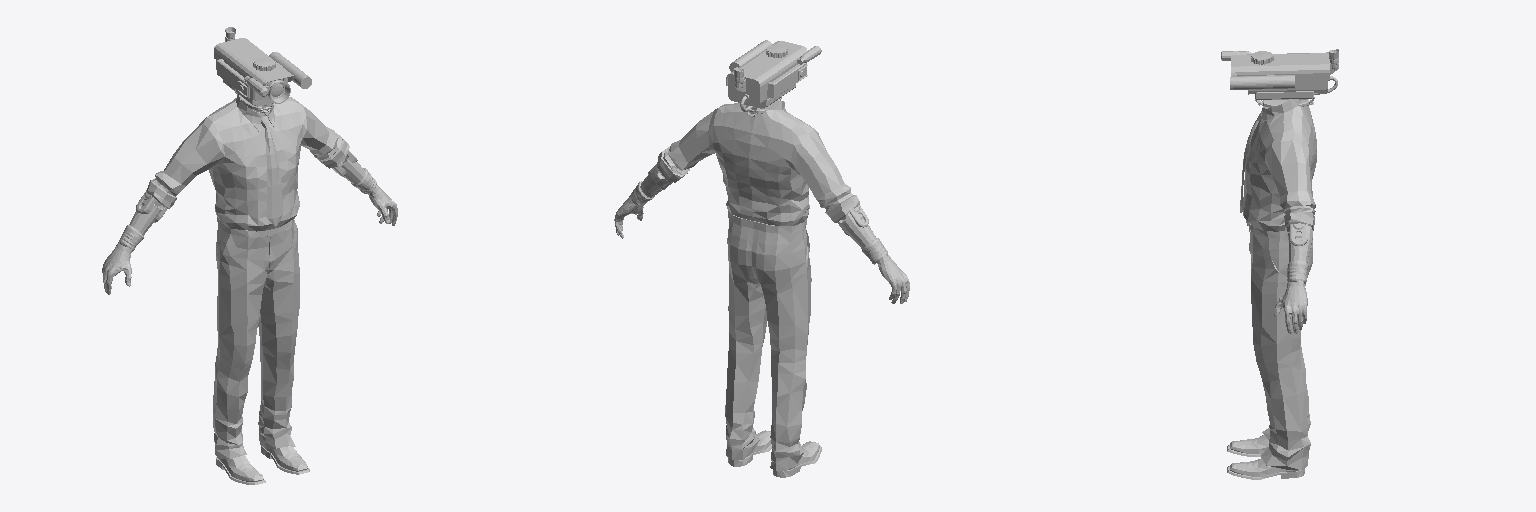
The picture shows the model from 3 angles: view 1: azimuth 30°, elevation 25°; view 2: azimuth 150°, elevation 25°; view 3: azimuth 270°, elevation 25°; orthographic projection.
Parts seen in each view (by area): view 1: Object_127, Object_129, SurveillanceCamera.002_SurveillanceCamera_Mat.003_0, Object_128, Object_131, SM_Camcorder_01a.smd.004_MI_Camcorder_01a_0; view 2: Object_127, SurveillanceCamera.002_SurveillanceCamera_Mat.003_0, Object_129, Object_128, SM_Camcorder_01a.smd.004_MI_Camcorder_01a_0; view 3: Object_127, SurveillanceCamera.002_SurveillanceCamera_Mat.003_0, Object_129, Object_128, Cylinder_MI_Camcorder_01a_0, SM_Camcorder_01a.smd.002_MI_Camcorder_01a_0.
Boxes of the visible parts, <box> form: Object_127: <box>147,94,349,484</box>; Object_129: <box>120,151,376,251</box>; SurveillanceCamera.002_SurveillanceCamera_Mat.003_0: <box>214,38,294,102</box>; Object_128: <box>102,185,397,294</box>; Object_131: <box>261,116,282,226</box>; SM_Camcorder_01a.smd.004_MI_Camcorder_01a_0: <box>217,59,269,99</box>; Object_127: <box>657,100,859,477</box>; SurveillanceCamera.002_SurveillanceCamera_Mat.003_0: <box>726,41,806,111</box>; Object_129: <box>630,162,887,264</box>; Object_128: <box>614,195,909,303</box>; SM_Camcorder_01a.smd.004_MI_Camcorder_01a_0: <box>767,63,807,97</box>; Object_127: <box>1227,99,1316,479</box>; SurveillanceCamera.002_SurveillanceCamera_Mat.003_0: <box>1231,52,1337,99</box>; Object_129: <box>1287,223,1312,283</box>; Object_128: <box>1274,280,1307,333</box>; Cylinder_MI_Camcorder_01a_0: <box>1230,75,1294,89</box>; SM_Camcorder_01a.smd.002_MI_Camcorder_01a_0: <box>1255,91,1314,107</box>.
Bounding box in the file's own units: 1 × 1.36 × 0.3545.